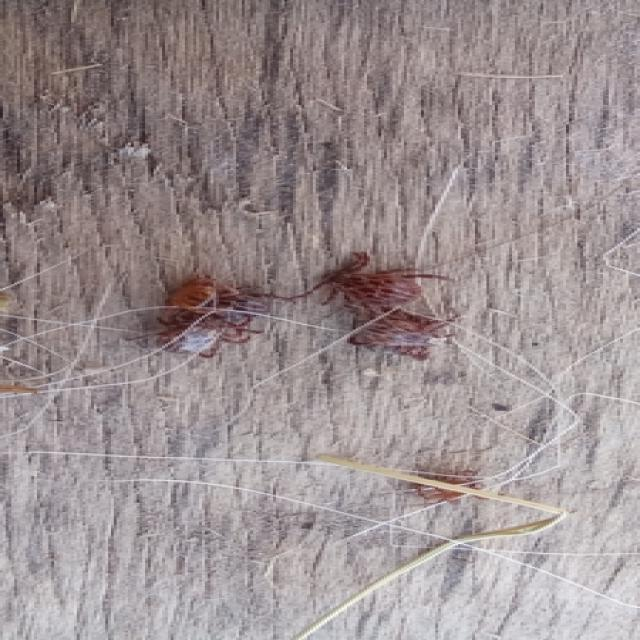Dermacentor Reticulatus-M: (316, 251, 435, 315)
